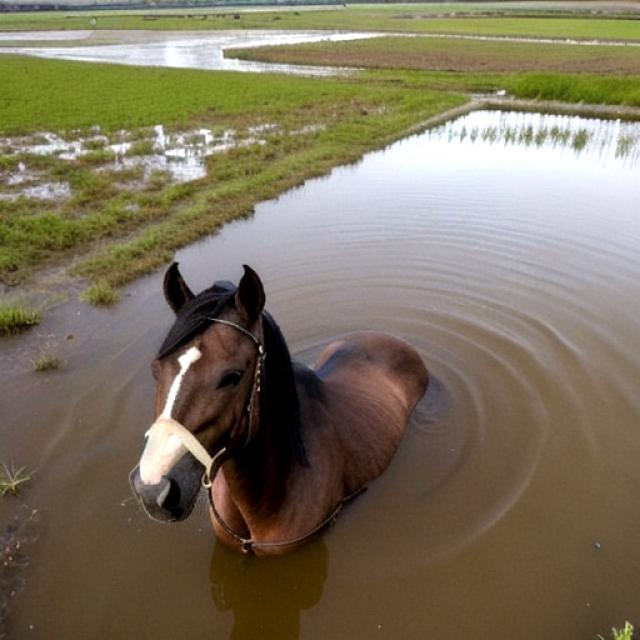horse: (108, 243, 456, 569)
